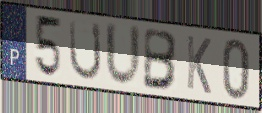0: (221, 37, 251, 102)
5: (32, 12, 63, 80)
B: (142, 26, 180, 92)
K: (185, 33, 213, 97)
U: (103, 20, 143, 90), (68, 18, 103, 83)
